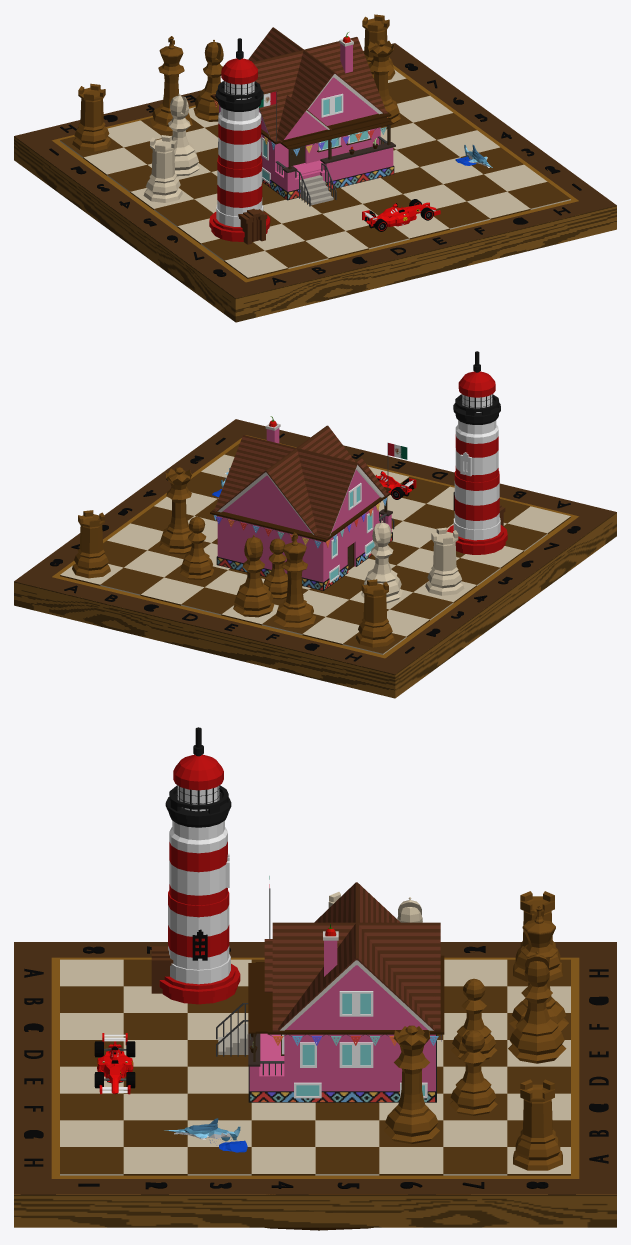
3 views of the same model, one above another, from view 1: azimuth 30°, elevation 25°; view 2: azimuth 150°, elevation 25°; view 3: azimuth 270°, elevation 25° (orthographic). The views are drawn at different scales.
Parts seen in each view (by area): view 1: Cube.002, Cube.1005, OBJRANDOM_LIGHTHOUSE, VEHICLES_FORMULA_1; view 2: Cube.002, Cube.1005, OBJRANDOM_LIGHTHOUSE, VEHICLES_FORMULA_1; view 3: Cube.002, Cube.1005, OBJRANDOM_LIGHTHOUSE, VEHICLES_FORMULA_1, ANIMAL_PEZ_ESPADA.
Part boxes in pixels (left/top/right/bottom): Cube.002: left=14, top=14, right=616, bottom=322; Cube.1005: left=210, top=27, right=395, bottom=206; OBJRANDOM_LIGHTHOUSE: left=209, top=38, right=270, bottom=244; VEHICLES_FORMULA_1: left=362, top=199, right=440, bottom=231; Cube.002: left=14, top=419, right=616, bottom=698; Cube.1005: left=210, top=416, right=407, bottom=590; OBJRANDOM_LIGHTHOUSE: left=446, top=351, right=507, bottom=554; VEHICLES_FORMULA_1: left=375, top=471, right=416, bottom=499; Cube.002: left=14, top=891, right=616, bottom=1227; Cube.1005: left=216, top=876, right=444, bottom=1102; OBJRANDOM_LIGHTHOUSE: left=151, top=727, right=240, bottom=1004; VEHICLES_FORMULA_1: left=94, top=1033, right=135, bottom=1094; ANIMAL_PEZ_ESPADA: left=164, top=1118, right=247, bottom=1152.
Size of the model in its own units: 3981 by 2302 by 4012.
79 materials, 4 textured.
